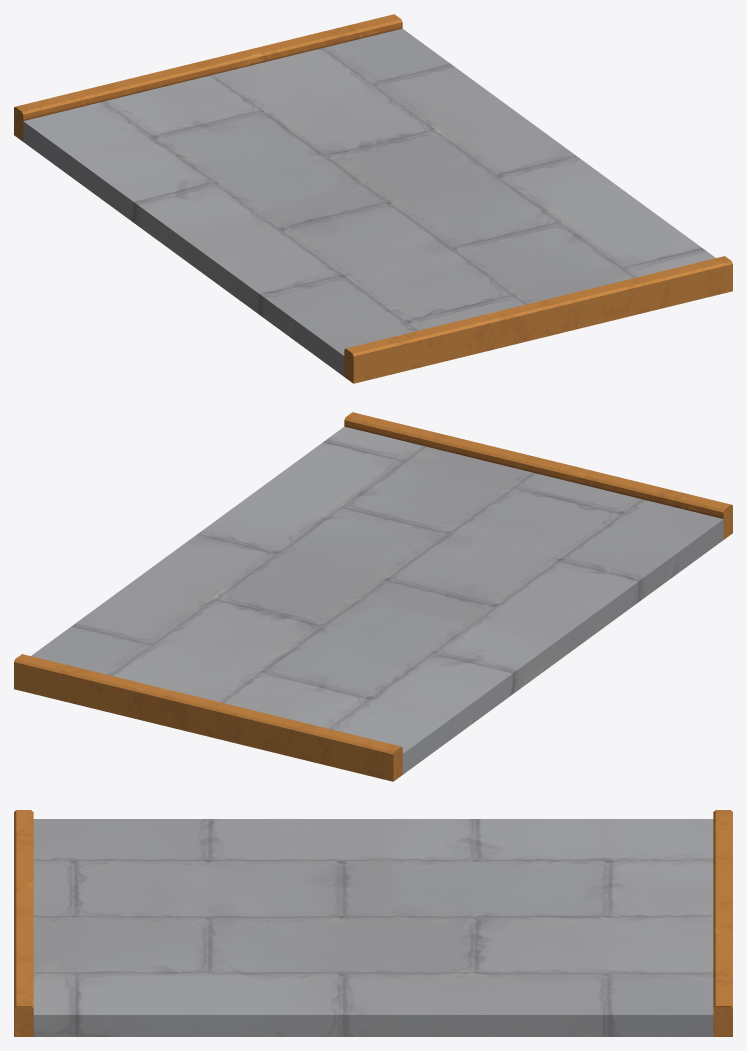
The model's file is SM_Ground_Jury.fbx.
3 renders of one model, top to bottom at view 1: azimuth 30°, elevation 25°; view 2: azimuth 150°, elevation 25°; view 3: azimuth 270°, elevation 25°, orthographic. The views are drawn at different scales.
Visible parts, largest first — view 1: SM_Ground_Jury; view 2: SM_Ground_Jury; view 3: SM_Ground_Jury.
Part boxes in pixels (x1=…): SM_Ground_Jury: x1=14, y1=14, x2=732, y2=383; SM_Ground_Jury: x1=14, y1=412, x2=732, y2=781; SM_Ground_Jury: x1=14, y1=810, x2=732, y2=1036.
Bounding box in the file's own units: 4 × 0.2953 × 6.2.
